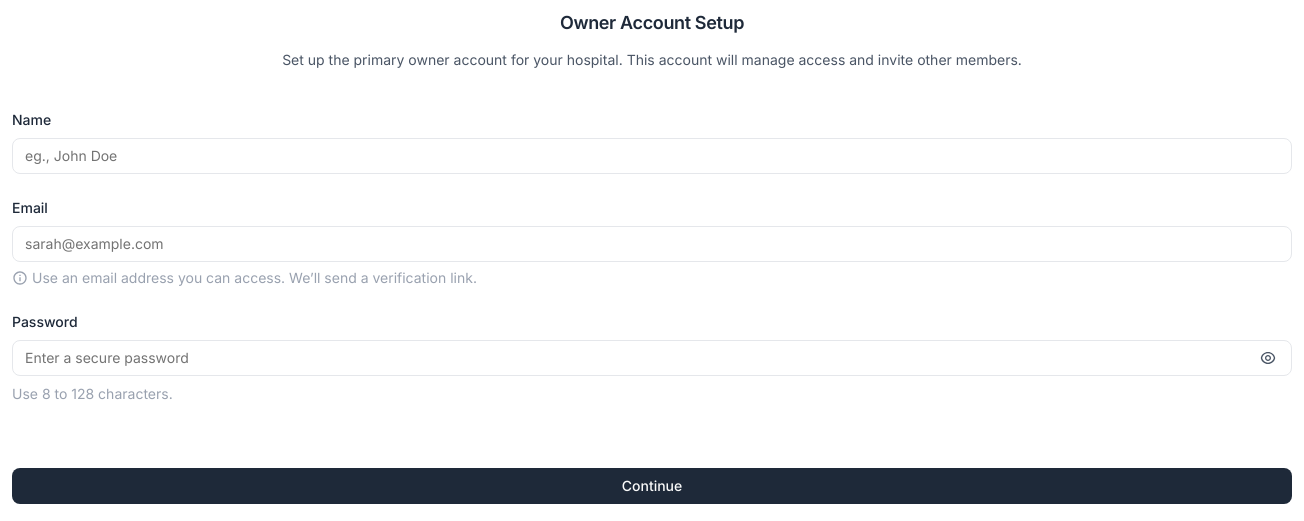
Test: OwnerClient › does not create an account with a password shorter than 8 characters
The image size is (1304, 521).
Type "Sarah Thompson" into the field labelled "Name" at (652,156), box [12, 138, 1292, 174]
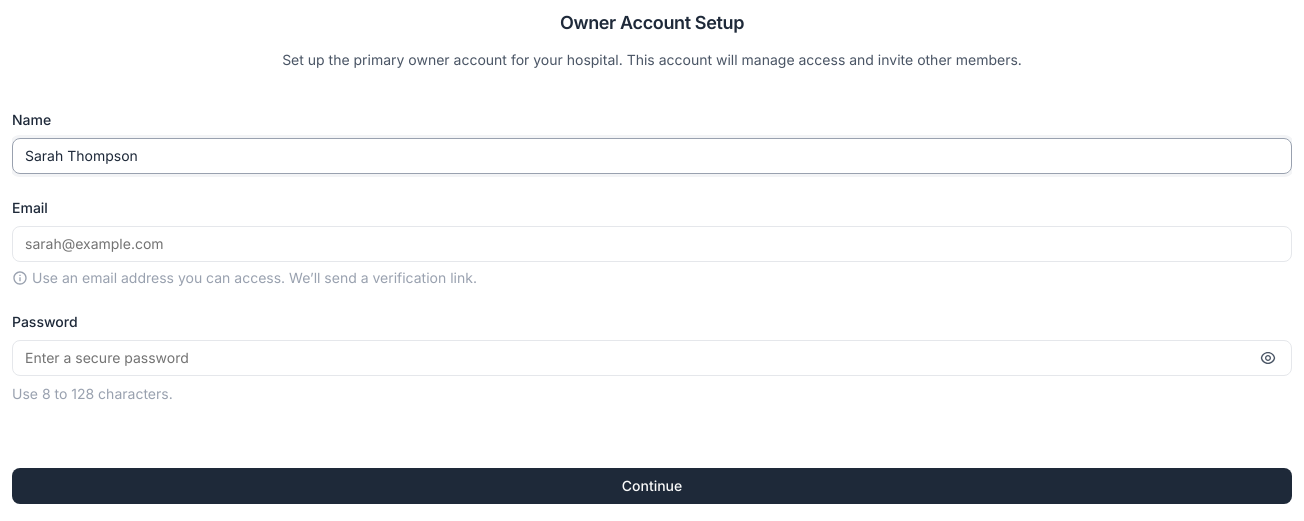
Type "sarah@stmary.org" into the field labelled "Email" at (652,244), box [12, 226, 1292, 262]
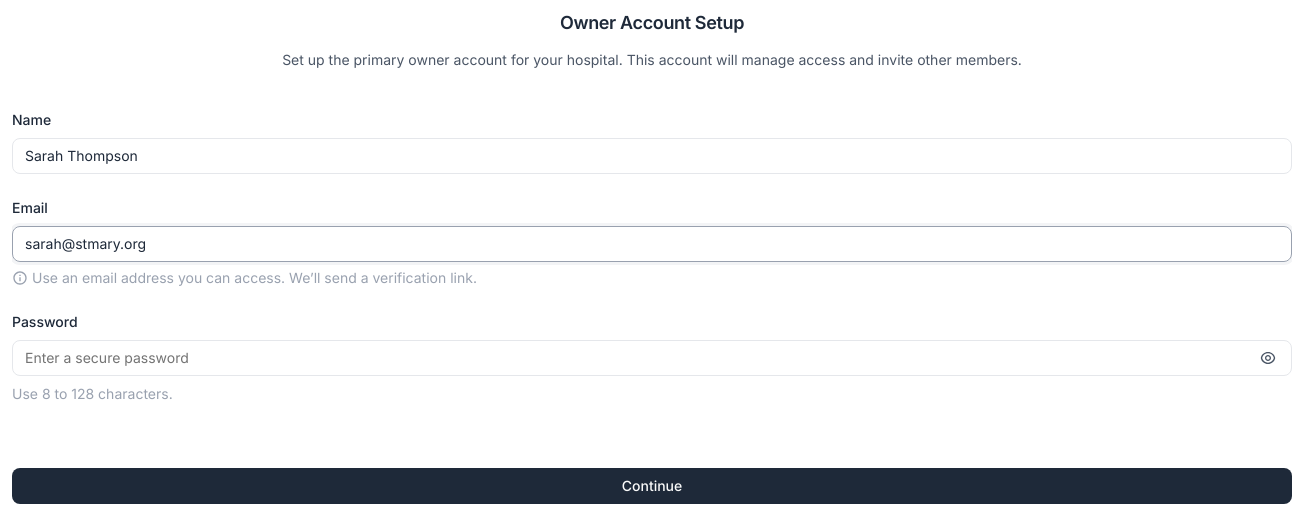
Type "1234567" into the password field labelled "Password" at (652,358), box [12, 340, 1292, 376]
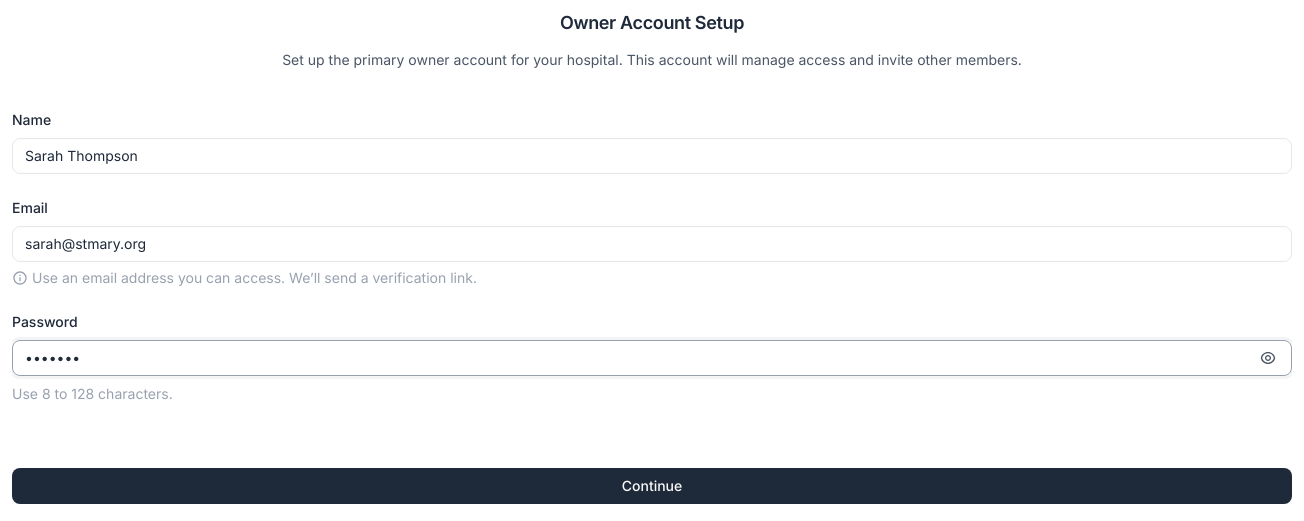
Click the button "Continue" at (652,486), box [12, 468, 1292, 504]
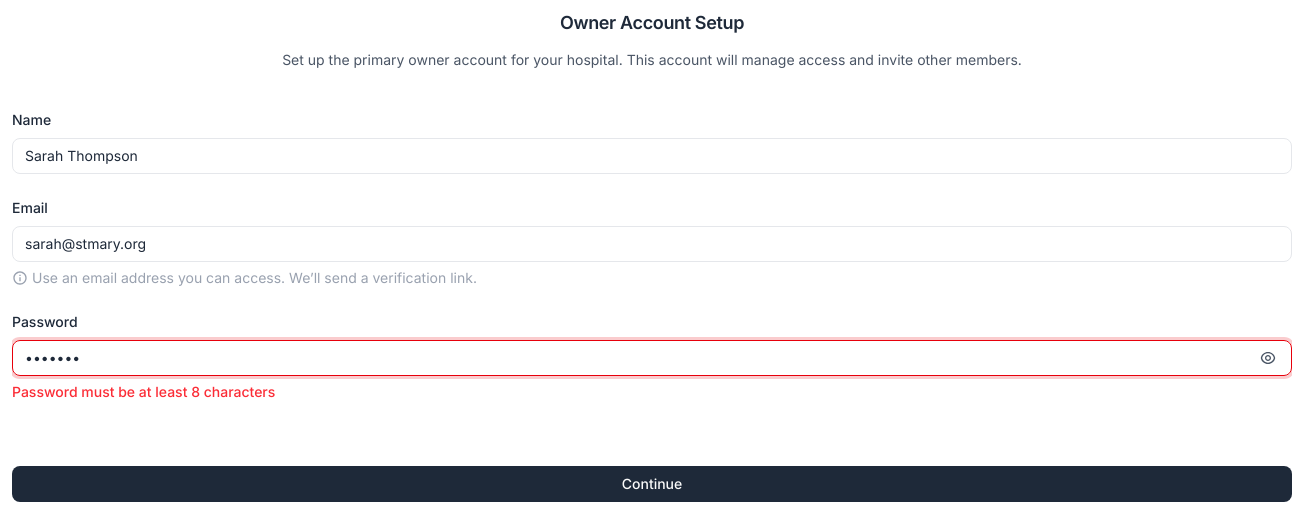
Expected: the text "Password must be at least 8 characters" is shown, [12, 383, 275, 400]
